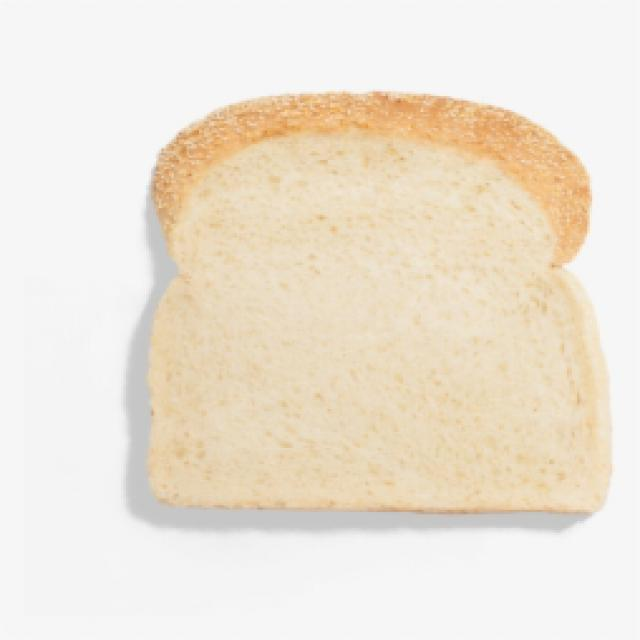Bread: (140, 92, 608, 512)
